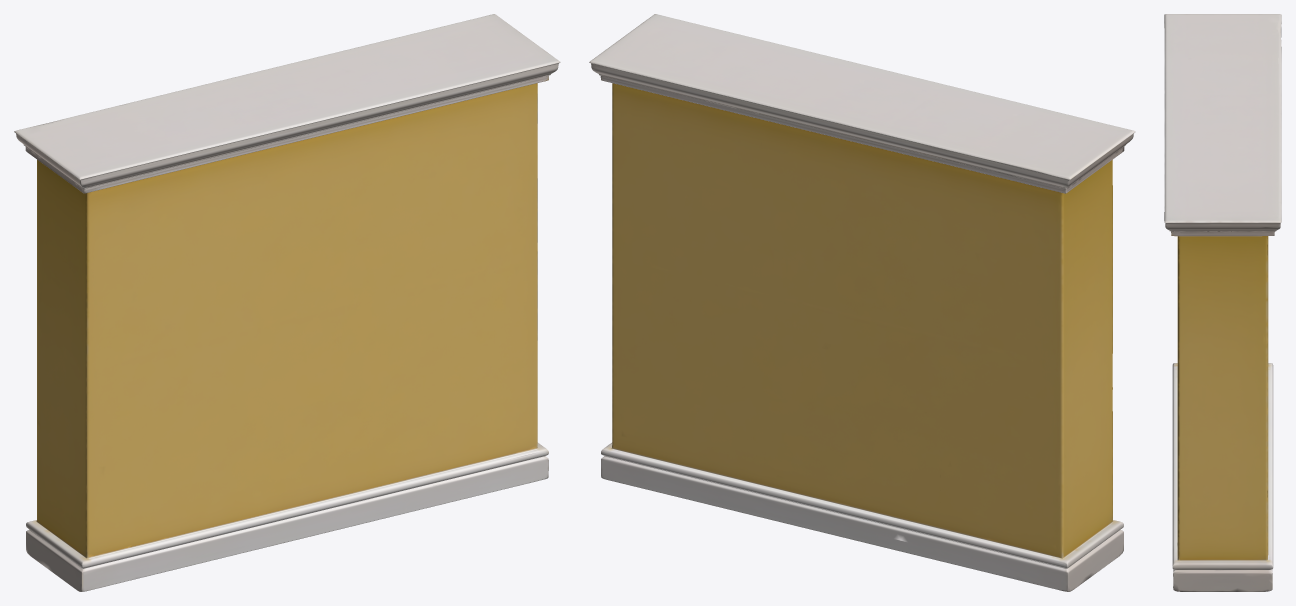
3 views of the same model, side by side, from view 1: azimuth 30°, elevation 25°; view 2: azimuth 150°, elevation 25°; view 3: azimuth 270°, elevation 25° (orthographic). The views are drawn at different scales.
Parts seen in each view (by area): view 1: node_0; view 2: node_0; view 3: node_0.
Part boxes in pixels (x1=…): node_0: x1=14, y1=14, x2=560, y2=591; node_0: x1=589, y1=14, x2=1135, y2=591; node_0: x1=1164, y1=14, x2=1281, y2=591.
Bounding box in the file's own units: 0.9085 × 0.7594 × 0.2157.
Materials: 1 (1 with a texture image).
